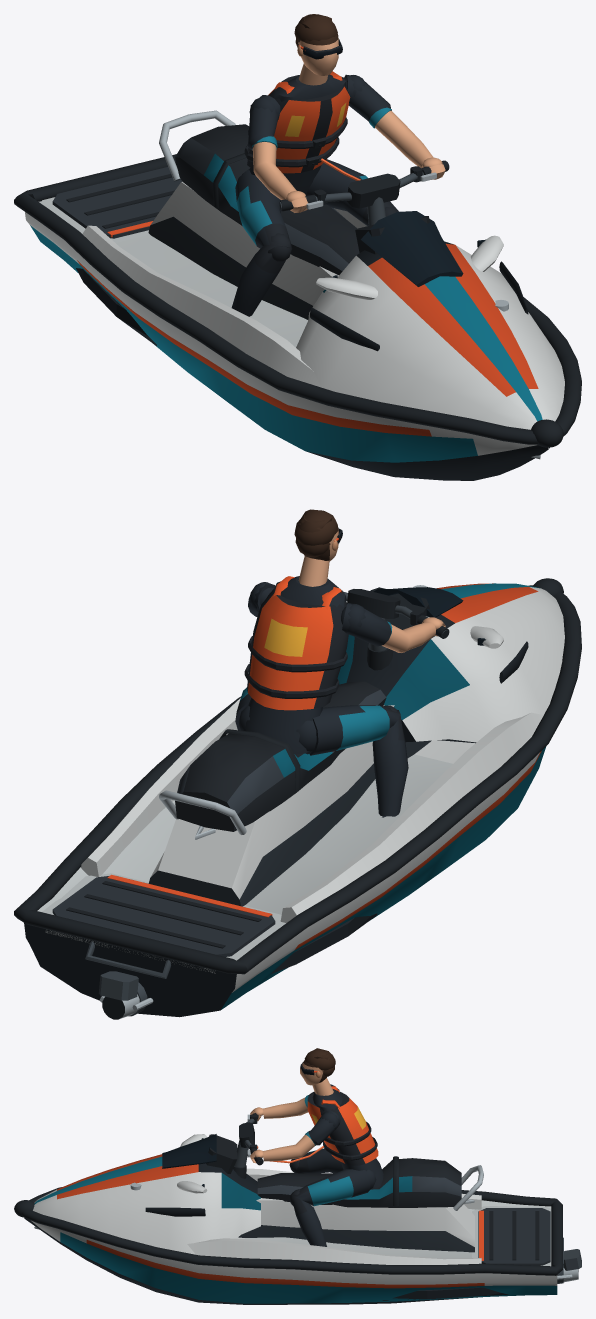
The model's file is jetski_mid.glb.
3 renders of one model, top to bottom at view 1: azimuth 30°, elevation 25°; view 2: azimuth 150°, elevation 25°; view 3: azimuth 270°, elevation 25°, orthographic. The views are drawn at different scales.
Visible parts, largest first — view 1: Hull, Rider, Trim, Seat, Windscreen, Handlebars, Hardware; view 2: Hull, Trim, Rider, Seat, Hardware, Handlebars, Windscreen; view 3: Hull, Trim, Rider, Seat, Hardware, Windscreen, Handlebars.
Part boxes in pixels (box(x1,y1,x2,y2)): Hull: box(25, 181, 564, 480); Rider: box(231, 14, 445, 316); Trim: box(14, 154, 581, 447); Seat: box(175, 124, 359, 274); Windscreen: box(361, 211, 463, 286); Handlebars: box(279, 160, 449, 225); Hardware: box(159, 110, 540, 459); Hull: box(24, 583, 564, 1017); Trim: box(14, 578, 581, 974); Rider: box(235, 509, 445, 817); Seat: box(175, 681, 386, 831); Hardware: box(85, 585, 427, 1019); Handlebars: box(343, 589, 449, 651); Windscreen: box(373, 587, 463, 617); Hull: box(24, 1134, 557, 1304); Trim: box(14, 1134, 562, 1275); Rider: box(250, 1048, 383, 1246); Seat: box(257, 1156, 461, 1207); Hardware: box(34, 1165, 581, 1283); Windscreen: box(162, 1134, 216, 1168); Handlebars: box(234, 1113, 263, 1167).
Bounding box in the file's own units: 1.27 × 1.65 × 3.45.
